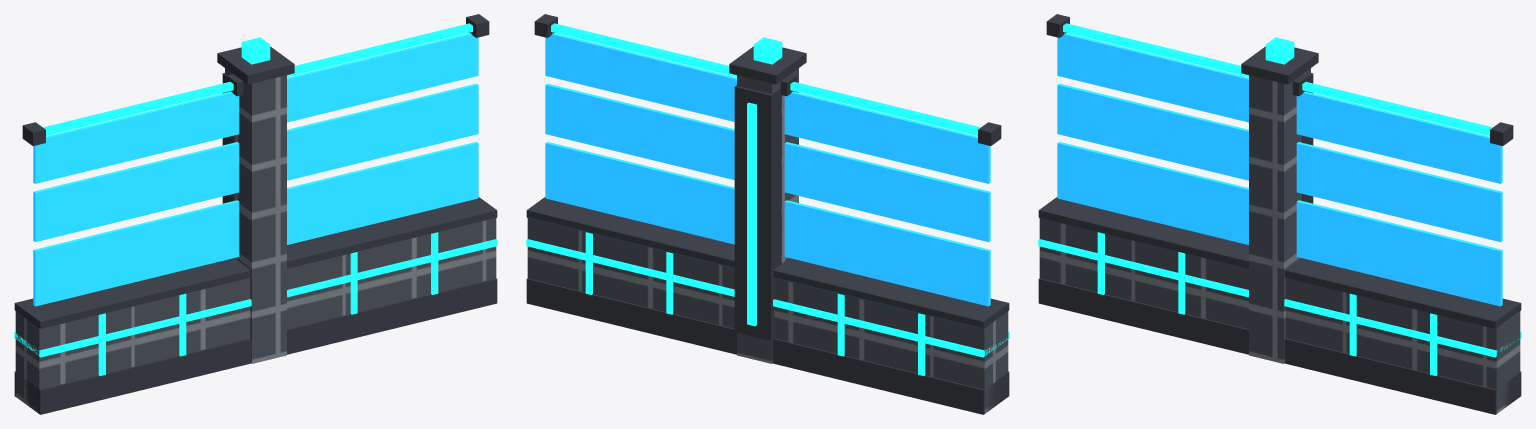
Rendered from fort_l8_edge.glb.
3 renders of one model, left to right at view 1: azimuth 30°, elevation 25°; view 2: azimuth 150°, elevation 25°; view 3: azimuth 330°, elevation 25°, orthographic.
Visible parts, largest first — view 1: fort_l8_edge; view 2: fort_l8_edge; view 3: fort_l8_edge.
Boxes of the visible parts, box(x1,y1,x2,y2) form: fort_l8_edge: box(14, 14, 497, 414); fort_l8_edge: box(526, 14, 1009, 414); fort_l8_edge: box(1038, 14, 1521, 414).
Size of the model in its own units: 0.78 by 0.5 by 0.095.
3 materials, 1 textured.
